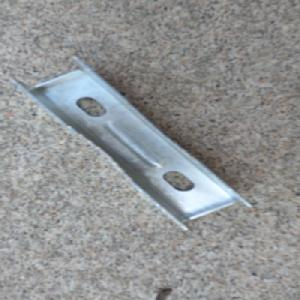ClampPart: (9, 55, 253, 232)
